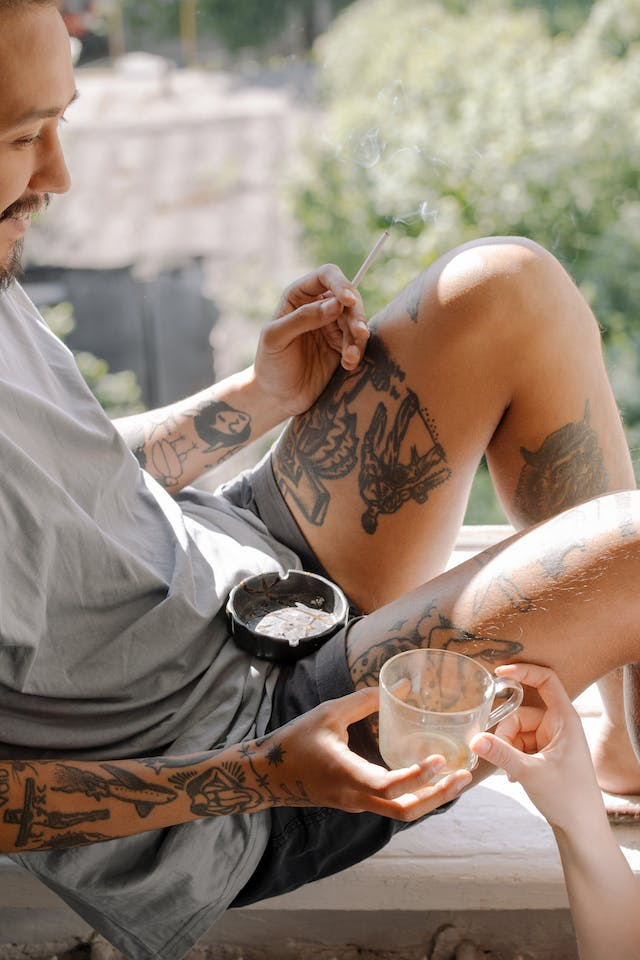Cigarette: (349, 229, 390, 296)
